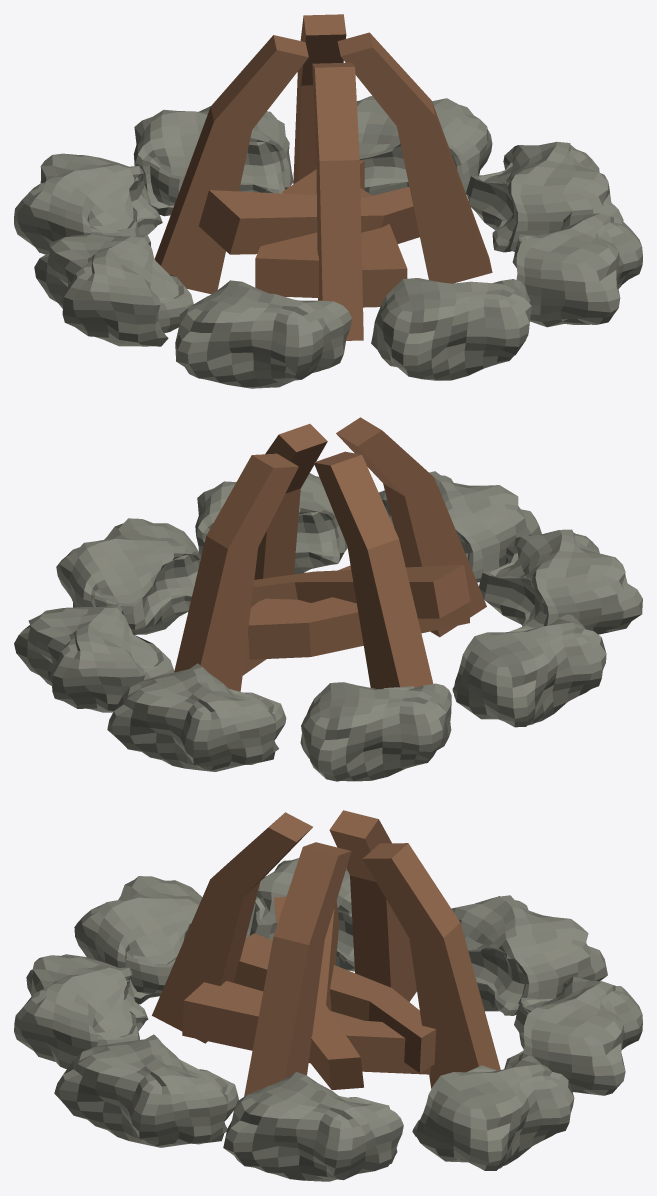
Rendered from Campfire.fbx.
The picture shows the model from 3 angles, top to bottom: view 1: azimuth 30°, elevation 25°; view 2: azimuth 150°, elevation 25°; view 3: azimuth 270°, elevation 25°; orthographic projection. The views are drawn at different scales.
Parts seen in each view (by area): view 1: Campfire; view 2: Campfire; view 3: Campfire.
Part boxes in pixels (bbox=[...]): Campfire: bbox=[14, 14, 642, 388]; Campfire: bbox=[14, 417, 642, 781]; Campfire: bbox=[14, 810, 642, 1181].
Bounding box in the file's own units: 727 × 328 × 733.
